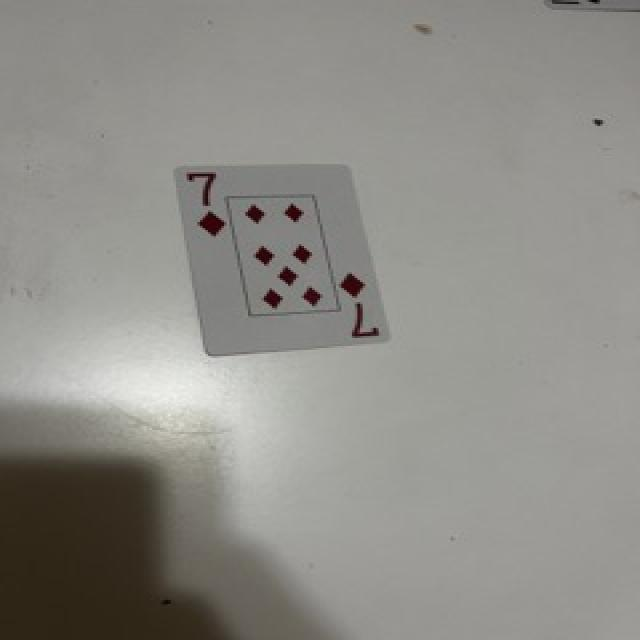7 of diamonds: (175, 168, 386, 355)
